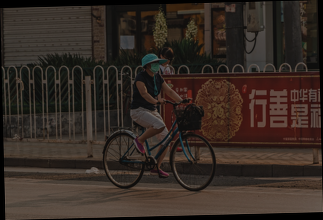with_mask: (147, 58, 160, 74)
without_mask: (164, 56, 173, 66)
